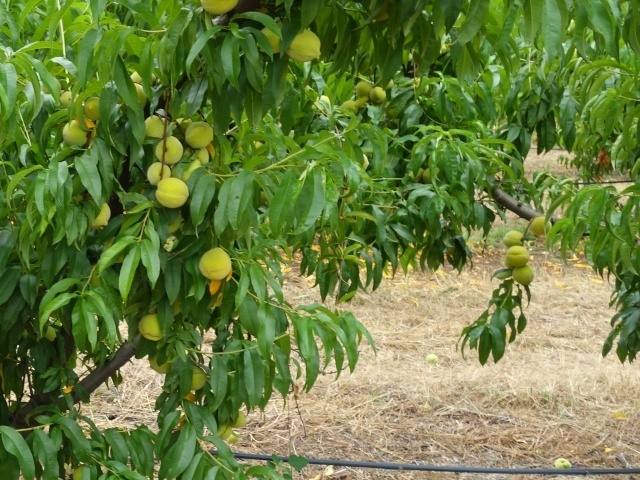peach: (285, 24, 324, 68), (197, 244, 233, 285), (156, 175, 190, 212), (256, 19, 288, 56), (59, 118, 91, 152), (136, 309, 168, 343), (180, 120, 216, 150), (151, 134, 184, 166), (86, 202, 118, 233), (140, 112, 170, 144), (144, 160, 173, 189), (80, 92, 106, 124), (196, 1, 242, 19), (189, 360, 210, 398), (146, 348, 171, 378), (505, 240, 530, 268), (530, 214, 554, 240), (501, 228, 527, 252), (512, 263, 536, 287), (351, 79, 375, 99), (368, 85, 389, 107), (228, 411, 250, 431)
